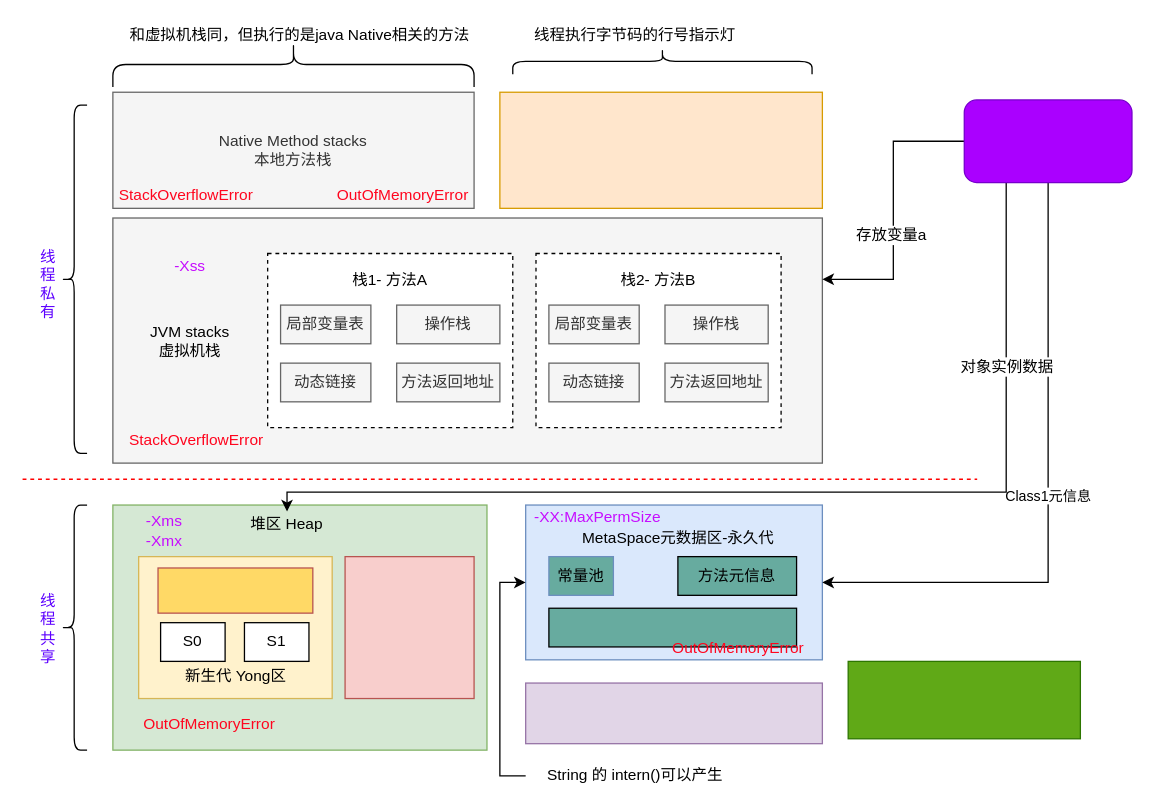
The diagram is 1155 pixels wide and 810 high, and some of its shapes have lost their labels. Here are the shapes that lost their labels. From the top down, the centre of each, then its label:
pixel 660 149: Program Counter Register 程序计数器
pixel 1047 141: Class1 a = new Class1()
pixel 235 590: Eden区
pixel 409 627: Old区 老年代
pixel 672 627: 类元信息
pixel 673 713: Code Cache JIT编译产物
pixel 963 699: 堆外内存 非JvM内存 DirectByteBuffer
